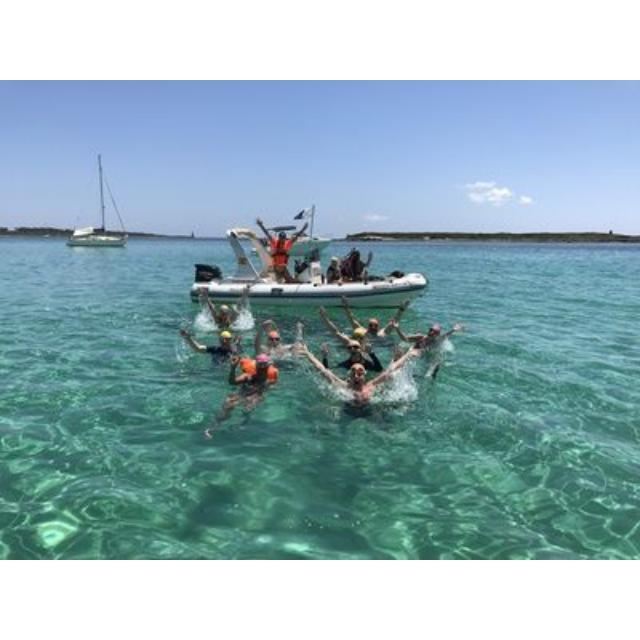human: (301, 341, 421, 421), (318, 307, 393, 367), (221, 351, 281, 415), (393, 313, 465, 357), (344, 294, 403, 340), (177, 319, 241, 357), (254, 318, 308, 361), (202, 287, 256, 327)
